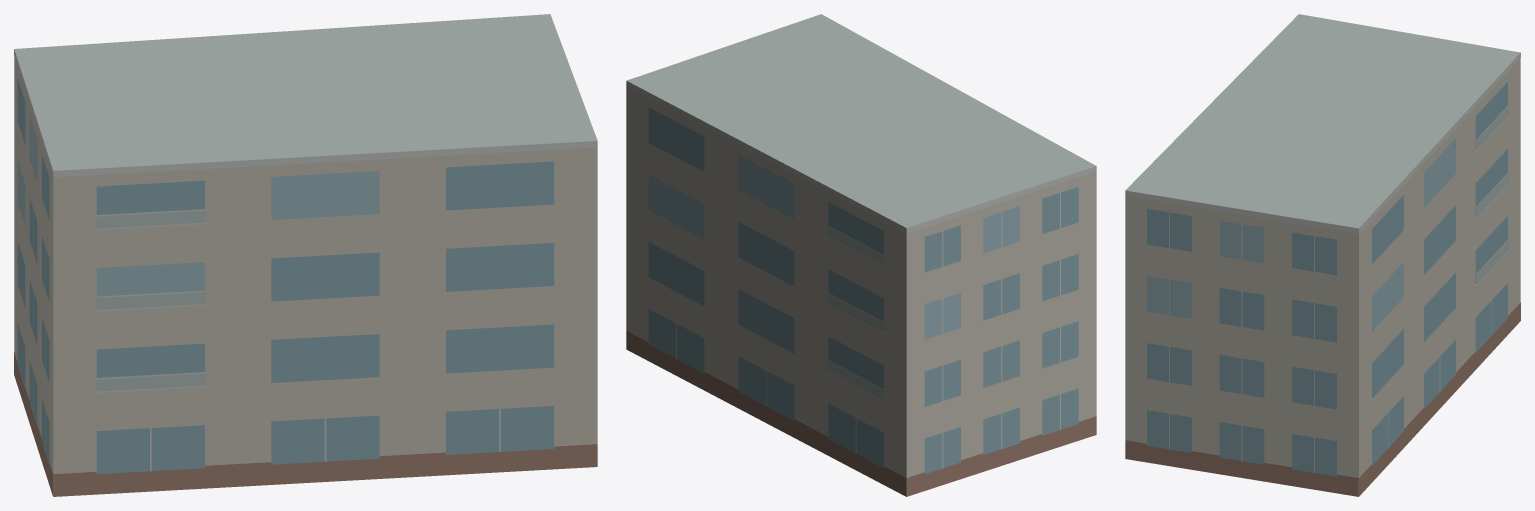
Rendered from survey-upis-33008512.glb.
3 views of the same model, side by side, from view 1: azimuth 30°, elevation 25°; view 2: azimuth 150°, elevation 25°; view 3: azimuth 270°, elevation 25° (orthographic). The views are drawn at different scales.
Parts seen in each view (by area): view 1: survey-upis-33008512.tmp; view 2: survey-upis-33008512.tmp; view 3: survey-upis-33008512.tmp.
Boxes of the visible parts, x1=… form: survey-upis-33008512.tmp: x1=14, y1=14, x2=597, y2=496; survey-upis-33008512.tmp: x1=626, y1=14, x2=1096, y2=496; survey-upis-33008512.tmp: x1=1125, y1=14, x2=1520, y2=496.
Size of the model in its own units: 20.91 by 12.2 by 16.3.
